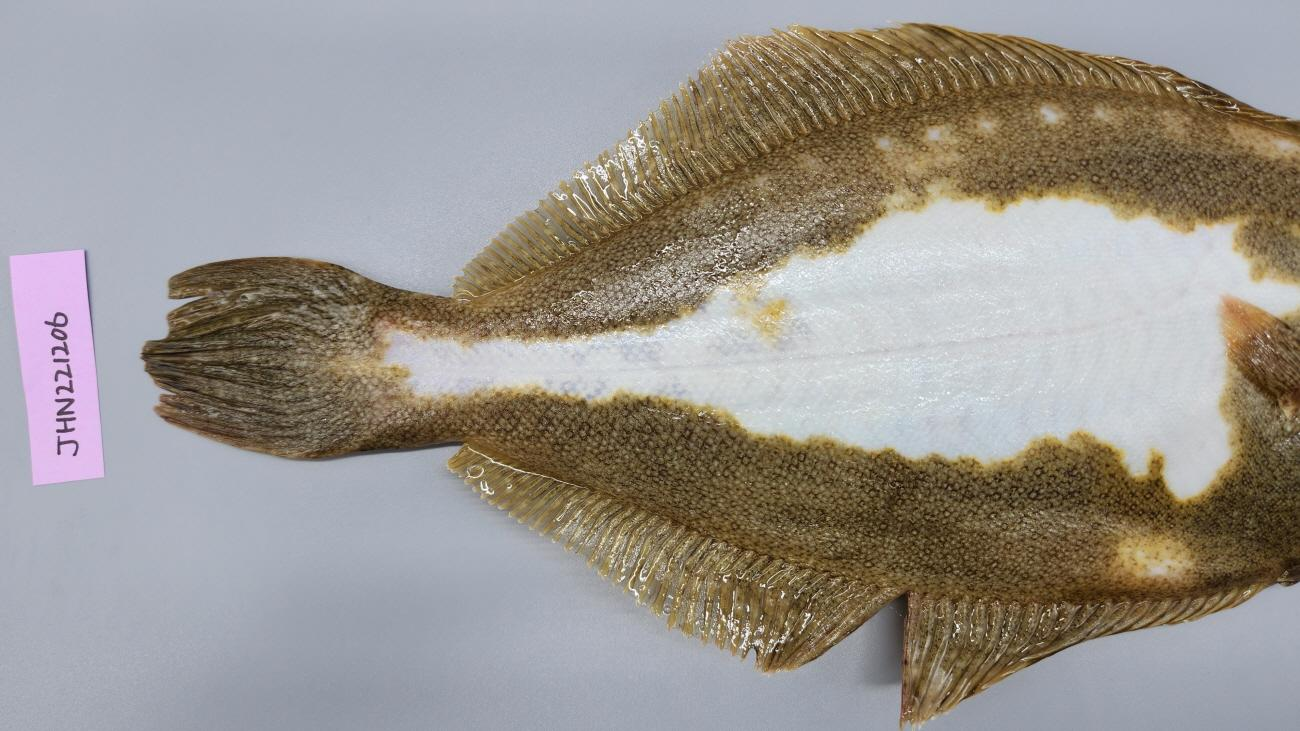POOUN: (140, 21, 1300, 731)
